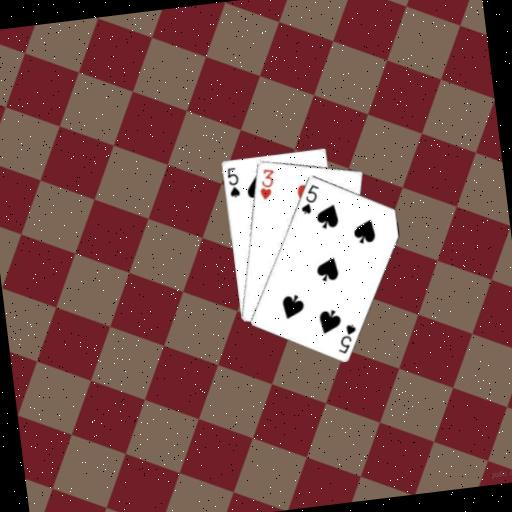3H: (254, 165, 278, 201)
5S: (295, 180, 323, 216), (332, 321, 360, 356), (224, 164, 242, 199)
